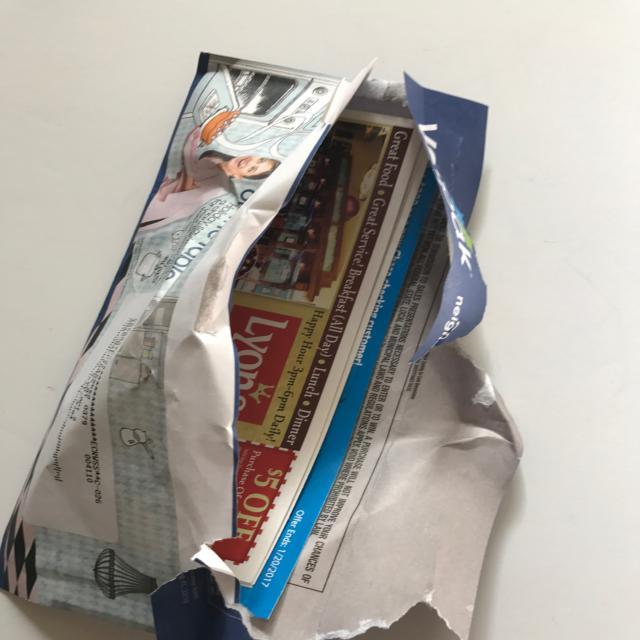paper: (0, 50, 524, 640)
